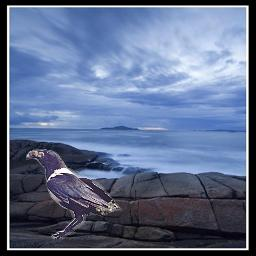Crow: (26, 149, 122, 239)
